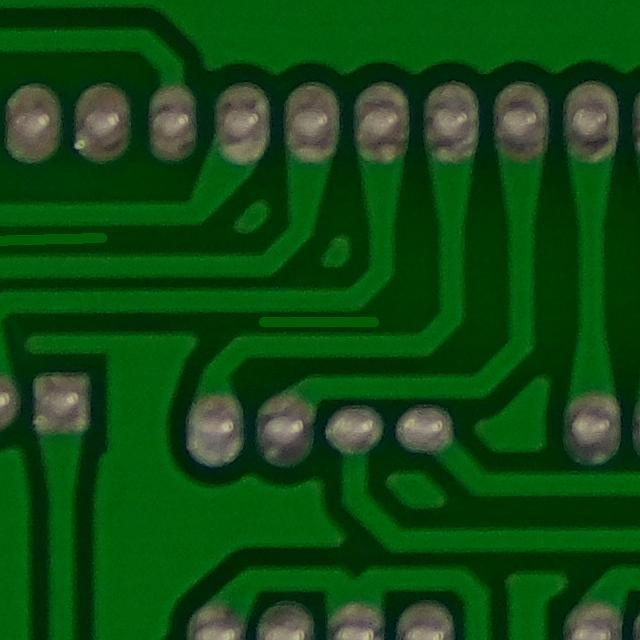spurious_copper: (243, 293, 397, 346)
